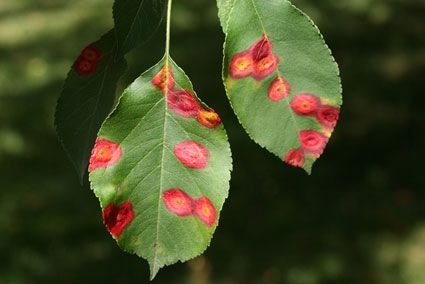Apple rust leaf: (88, 51, 243, 284), (218, 2, 358, 180)
